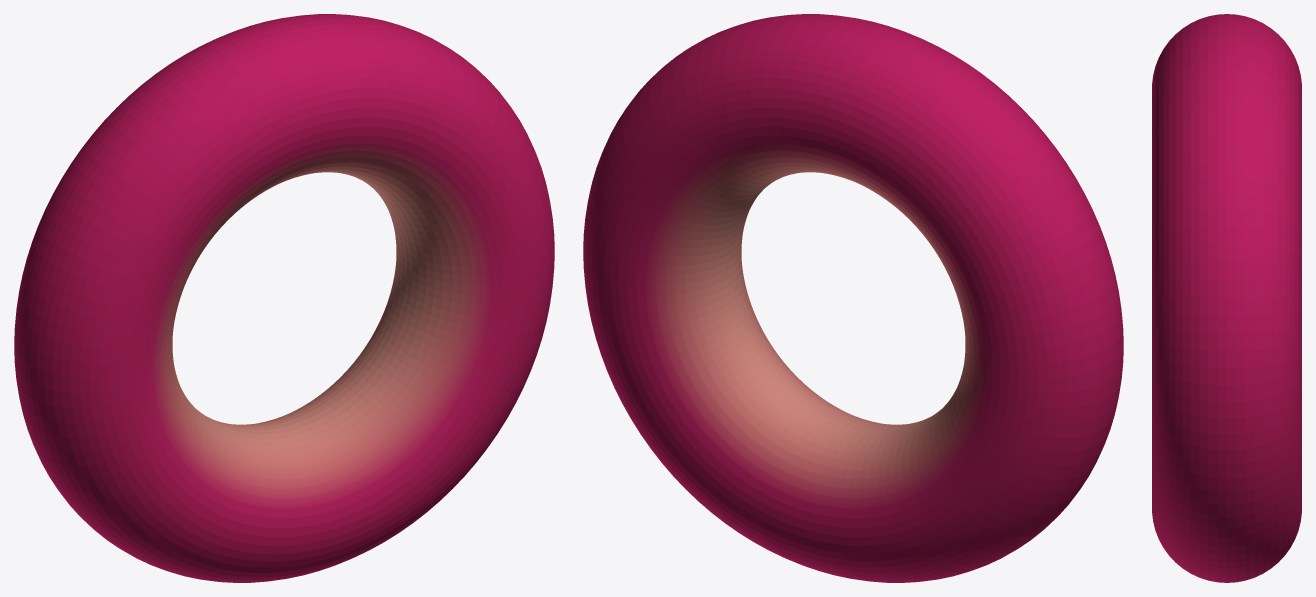
3 views of the same model, side by side, from view 1: azimuth 30°, elevation 25°; view 2: azimuth 150°, elevation 25°; view 3: azimuth 270°, elevation 25° (orthographic). The views are drawn at different scales.
Visible parts, largest first — view 1: world; view 2: world; view 3: world.
Part boxes in pixels (x1=…): world: x1=14, y1=14, x2=554, y2=582; world: x1=583, y1=14, x2=1123, y2=582; world: x1=1152, y1=14, x2=1301, y2=582.
Bounding box in the file's own units: 30.8 × 30.8 × 8.12.
